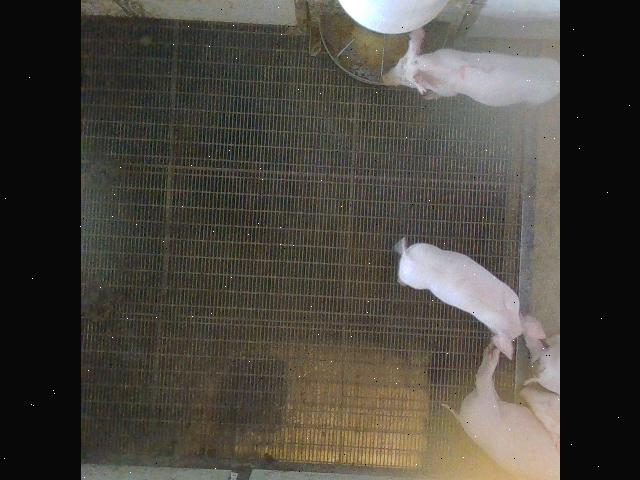pig-5: (381, 28, 559, 106)
